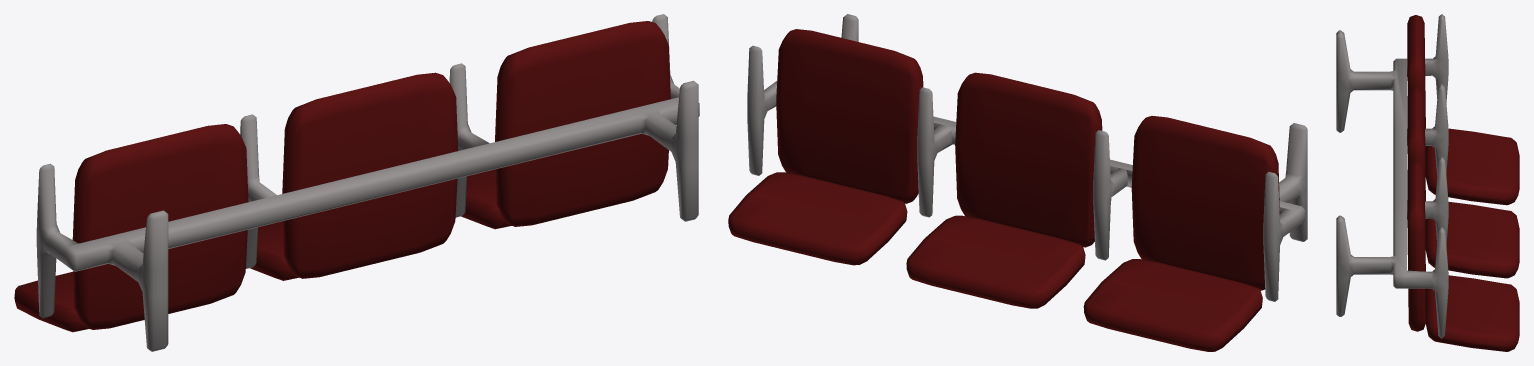
3 renders of one model, left to right at view 1: azimuth 30°, elevation 25°; view 2: azimuth 150°, elevation 25°; view 3: azimuth 270°, elevation 25°, orthographic. The views are drawn at different scales.
Parts seen in each view (by area): view 1: Cube; view 2: Cube; view 3: Cube.
Boxes of the visible parts, x1=… form: Cube: x1=14, y1=14, x2=699, y2=351; Cube: x1=728, y1=14, x2=1307, y2=351; Cube: x1=1336, y1=14, x2=1519, y2=351.
Bounding box in the file's own units: 180 × 55.12 × 63.87.
